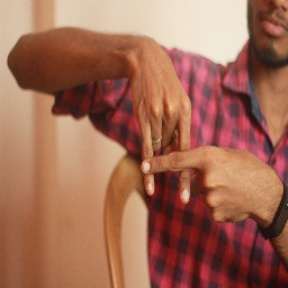H: (118, 102, 220, 215)
